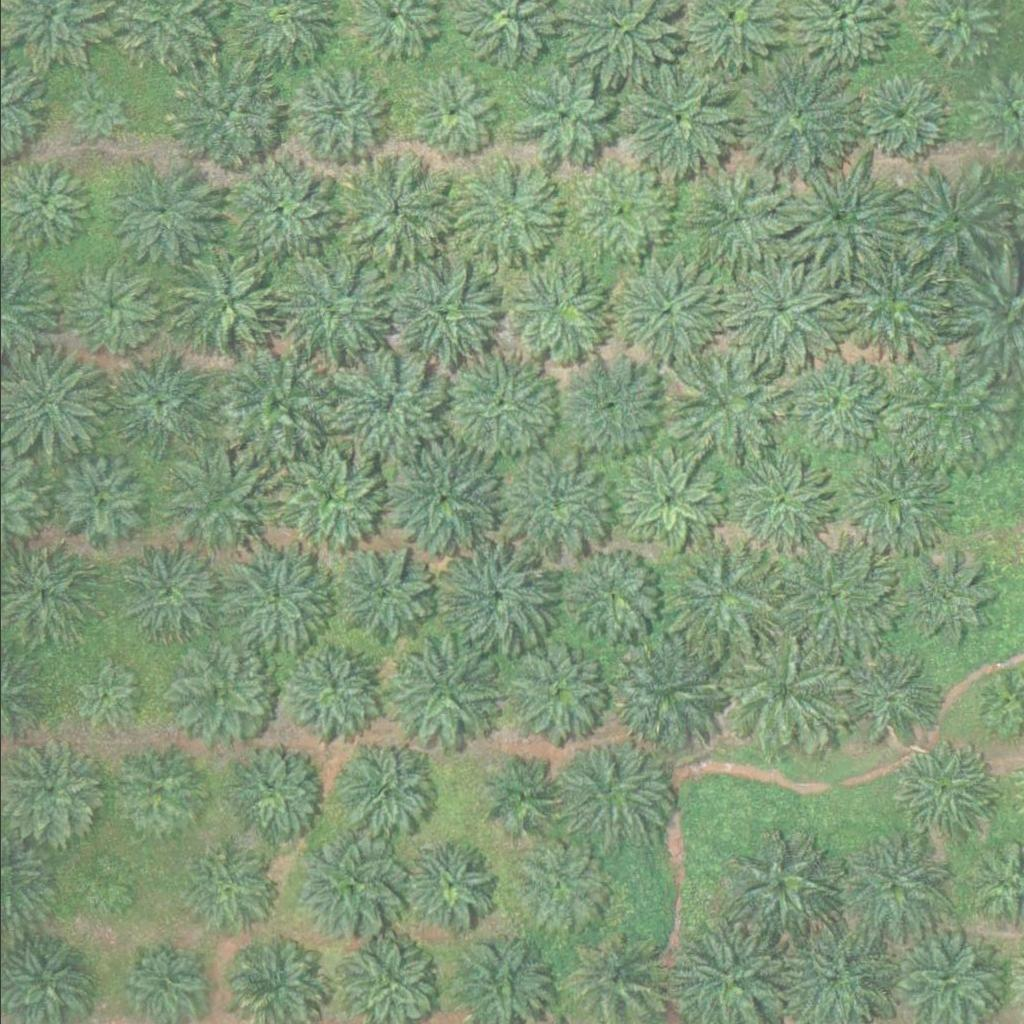Kelapa_Sawit: (890, 351, 1004, 464), (727, 632, 841, 745), (553, 736, 667, 849), (293, 826, 407, 939), (99, 157, 213, 270), (737, 64, 850, 177), (619, 62, 732, 175), (447, 158, 560, 271), (338, 150, 451, 263), (837, 243, 950, 356), (775, 346, 888, 459), (668, 350, 781, 463), (554, 347, 667, 460), (500, 450, 613, 563), (390, 442, 503, 555), (215, 543, 328, 656), (269, 444, 382, 557), (270, 255, 383, 368), (171, 246, 284, 359), (219, 155, 332, 268), (842, 441, 956, 553), (727, 445, 841, 557), (775, 540, 889, 652), (667, 537, 781, 649), (614, 637, 728, 749), (499, 634, 613, 746), (164, 57, 278, 169), (888, 542, 1001, 654), (894, 166, 1007, 278), (779, 161, 892, 273), (677, 163, 790, 275), (718, 252, 831, 364), (607, 253, 720, 365), (383, 258, 496, 370), (440, 346, 553, 458), (328, 347, 441, 459), (447, 538, 560, 650), (382, 636, 495, 748), (723, 830, 836, 942), (158, 446, 271, 558), (218, 349, 331, 461), (106, 345, 219, 457), (838, 836, 939, 936), (893, 738, 994, 838), (514, 63, 615, 163), (568, 159, 669, 259), (508, 259, 609, 359), (621, 449, 722, 549), (330, 544, 431, 644), (834, 644, 935, 744), (176, 843, 277, 943), (227, 741, 328, 841), (108, 745, 209, 845), (282, 641, 383, 741), (170, 642, 271, 742), (121, 542, 222, 642), (44, 452, 145, 552), (286, 66, 386, 166), (565, 545, 665, 645), (332, 734, 432, 834), (509, 836, 609, 936), (397, 833, 497, 933), (63, 256, 163, 356), (854, 74, 942, 162), (408, 72, 496, 159), (487, 757, 563, 832), (64, 655, 139, 730), (72, 852, 135, 914), (67, 81, 130, 143)
